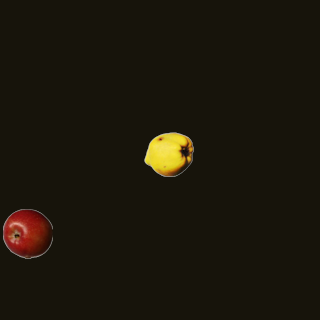Apple Braeburn: (2, 208, 52, 258)
Quince: (143, 129, 193, 179)
